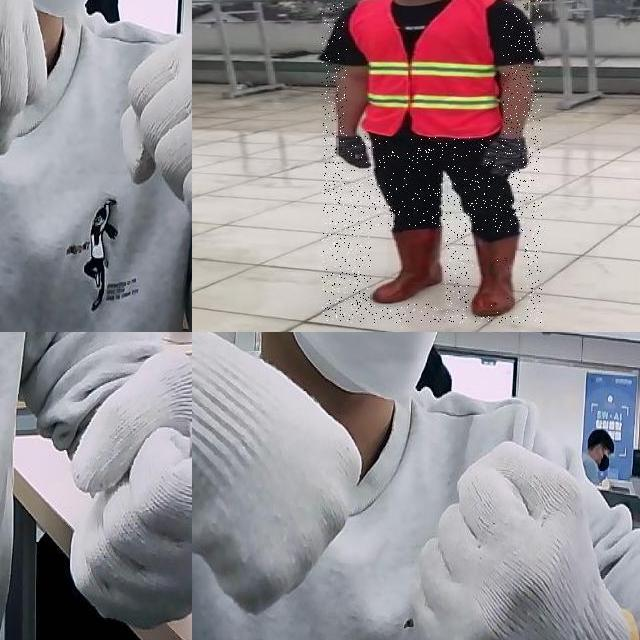BOOTS: (371, 226, 446, 304), (469, 232, 526, 316)
GLOVE: (192, 332, 362, 610), (419, 443, 640, 640), (69, 347, 192, 627), (120, 21, 192, 273), (484, 136, 534, 180), (334, 132, 373, 172)
VEST: (347, 0, 503, 137)
